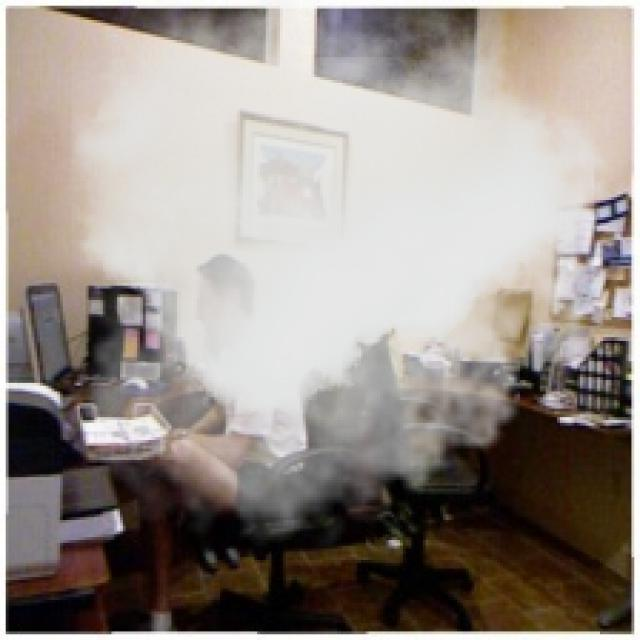Smoke: (71, 0, 628, 560)
